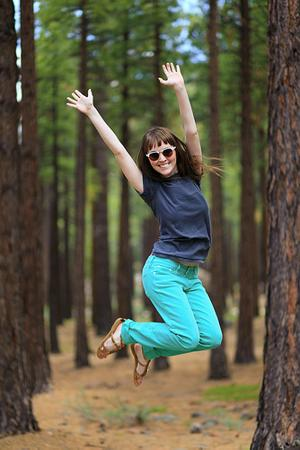person: (66, 60, 225, 384)
